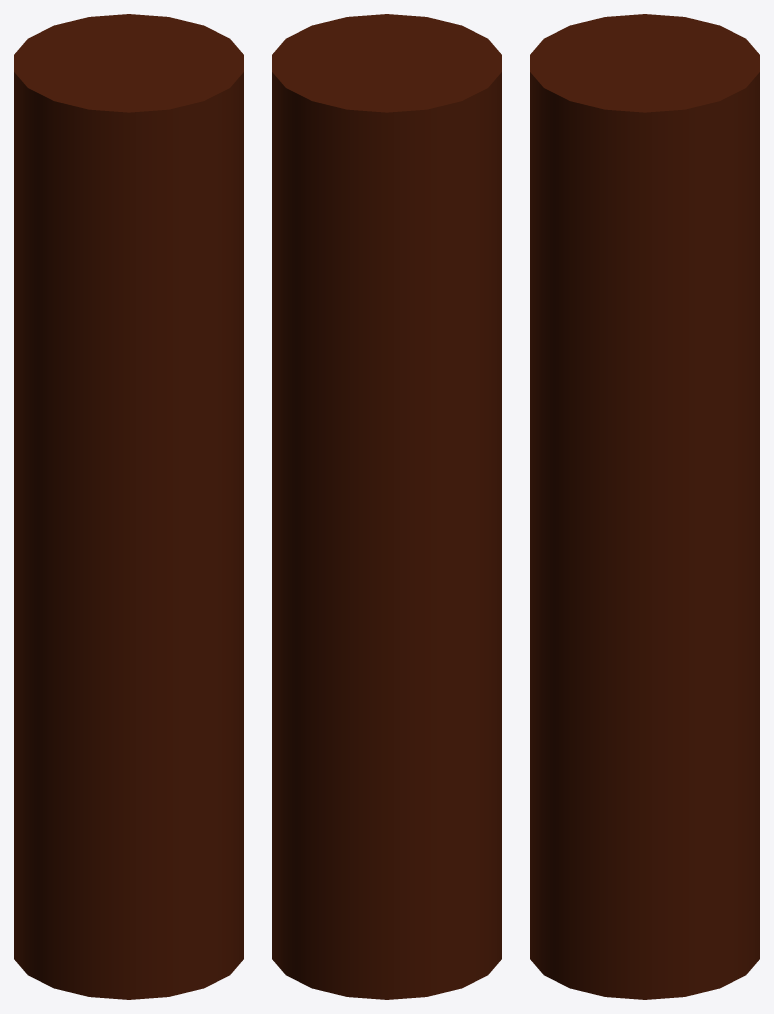
Rendered from Fence module 2.fbx.
The picture shows the model from 3 angles, left to right: view 1: azimuth 30°, elevation 25°; view 2: azimuth 150°, elevation 25°; view 3: azimuth 270°, elevation 25°; orthographic projection.
Visible parts, largest first — view 1: Cylinder005; view 2: Cylinder005; view 3: Cylinder005.
Boxes of the visible parts, x1,y1,x2,y2 form: Cylinder005: (14, 14, 243, 999); Cylinder005: (272, 14, 501, 999); Cylinder005: (530, 14, 759, 999).
Size of the model in its own units: 2.08 by 8.74 by 2.05.
